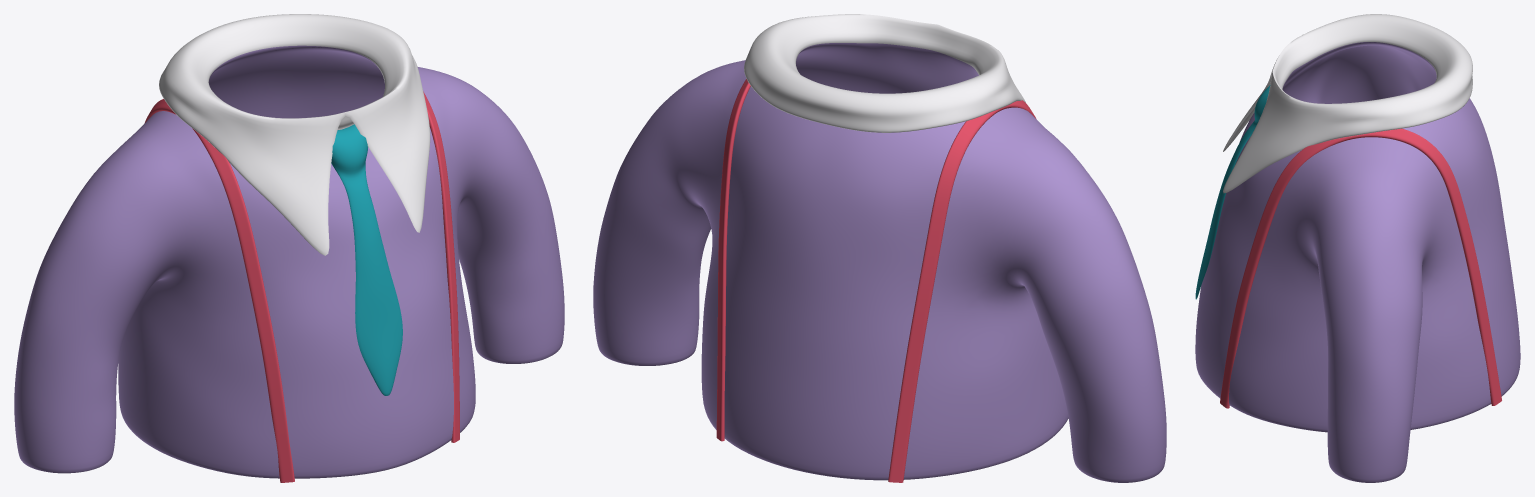
The model's file is Suspenders.gltf.
3 views of the same model, side by side, from view 1: azimuth 30°, elevation 25°; view 2: azimuth 150°, elevation 25°; view 3: azimuth 270°, elevation 25° (orthographic). The views are drawn at different scales.
Parts seen in each view (by area): view 1: clouth11-PBR, clouth11-PBR.1, clouth11-PBR.3, clouth11-PBR.2; view 2: clouth11-PBR, clouth11-PBR.1, clouth11-PBR.2; view 3: clouth11-PBR, clouth11-PBR.1, clouth11-PBR.2, clouth11-PBR.3.
Part boxes in pixels (bbox=[...]): clouth11-PBR: bbox=[14, 45, 564, 478]; clouth11-PBR.1: bbox=[159, 14, 430, 255]; clouth11-PBR.3: bbox=[331, 124, 402, 395]; clouth11-PBR.2: bbox=[144, 91, 459, 482]; clouth11-PBR: bbox=[593, 43, 1166, 482]; clouth11-PBR.1: bbox=[744, 14, 1025, 132]; clouth11-PBR.2: bbox=[716, 79, 1036, 482]; clouth11-PBR: bbox=[1195, 42, 1520, 482]; clouth11-PBR.1: bbox=[1223, 14, 1472, 193]; clouth11-PBR.2: bbox=[1220, 128, 1501, 408]; clouth11-PBR.3: bbox=[1195, 85, 1270, 299].
Size of the model in its own units: 10.39 by 6.4 by 6.04.
